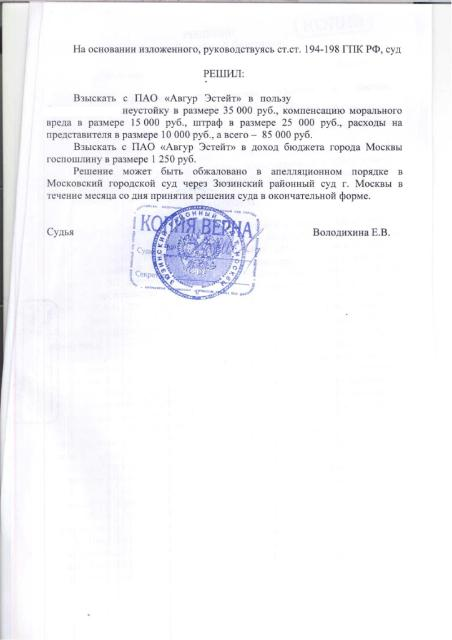stamp: (149, 205, 245, 302)
